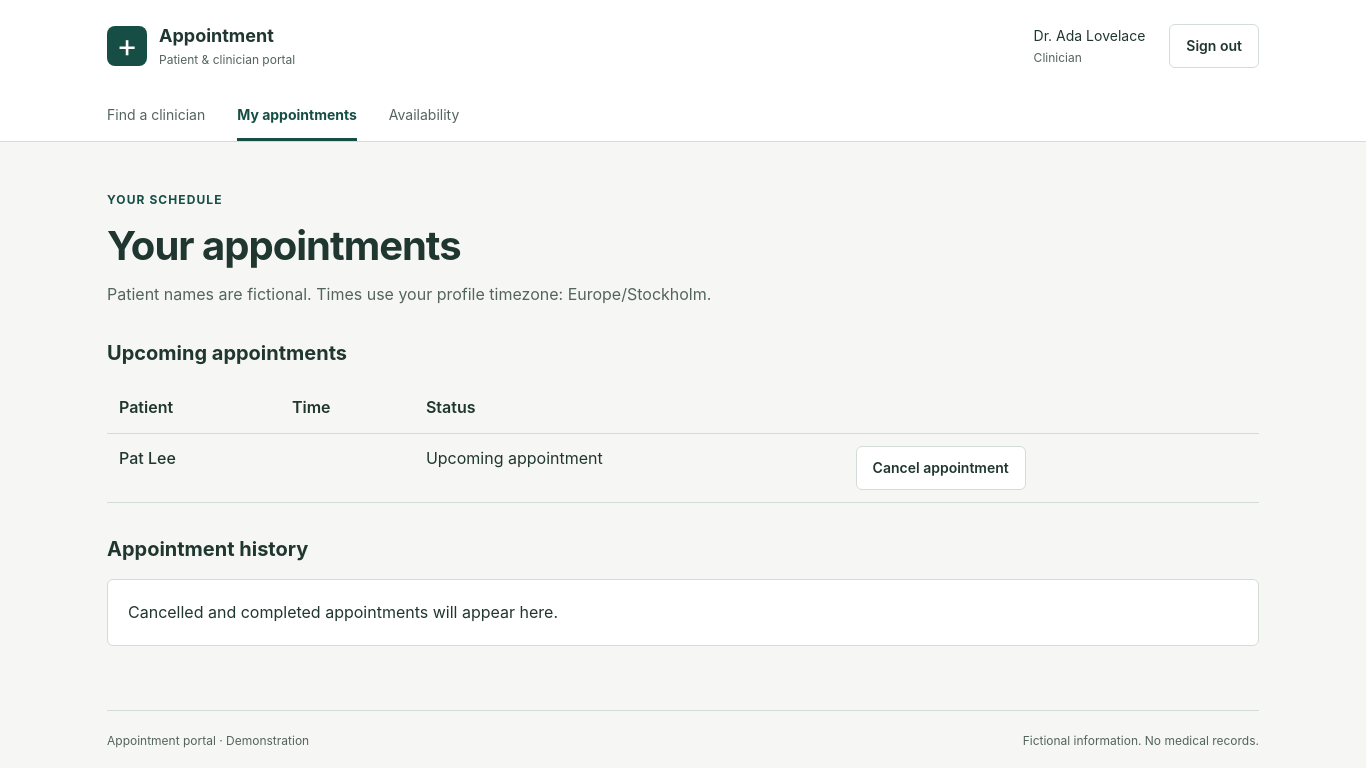
Test: clinician scheduling journeys › shows patient names and offers clinician cancellation with an opt-in withdrawal
Expected: the text "Pat Lee" is shown, [107,433,280,502]
Click the button with aria-label "Cancel appointment with Pat Lee".
click(941, 468)  # box [856,446,1026,490]
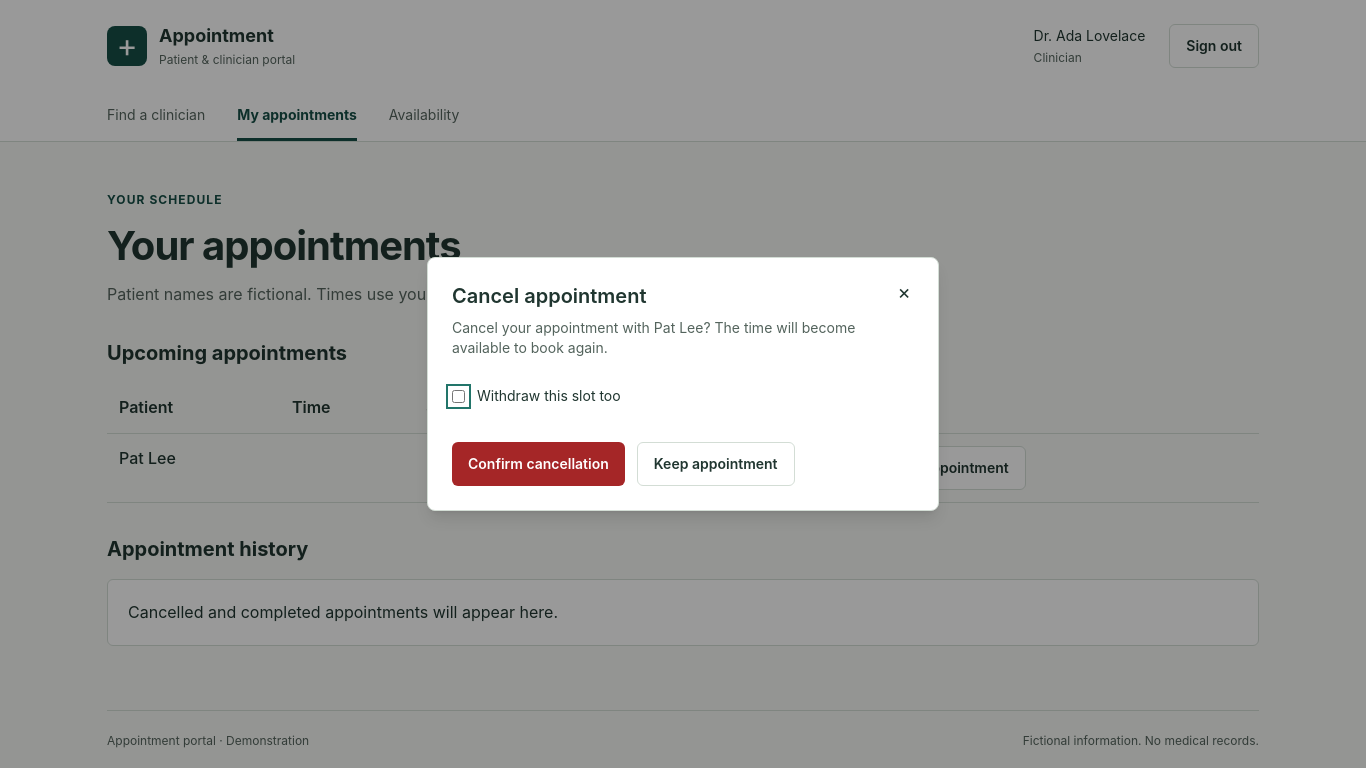
Now the checkbox labelled "Withdraw this slot too" is not checked
Click the checkbox labelled "Withdraw this slot too".
click(458, 396)  # box [452,390,465,402]
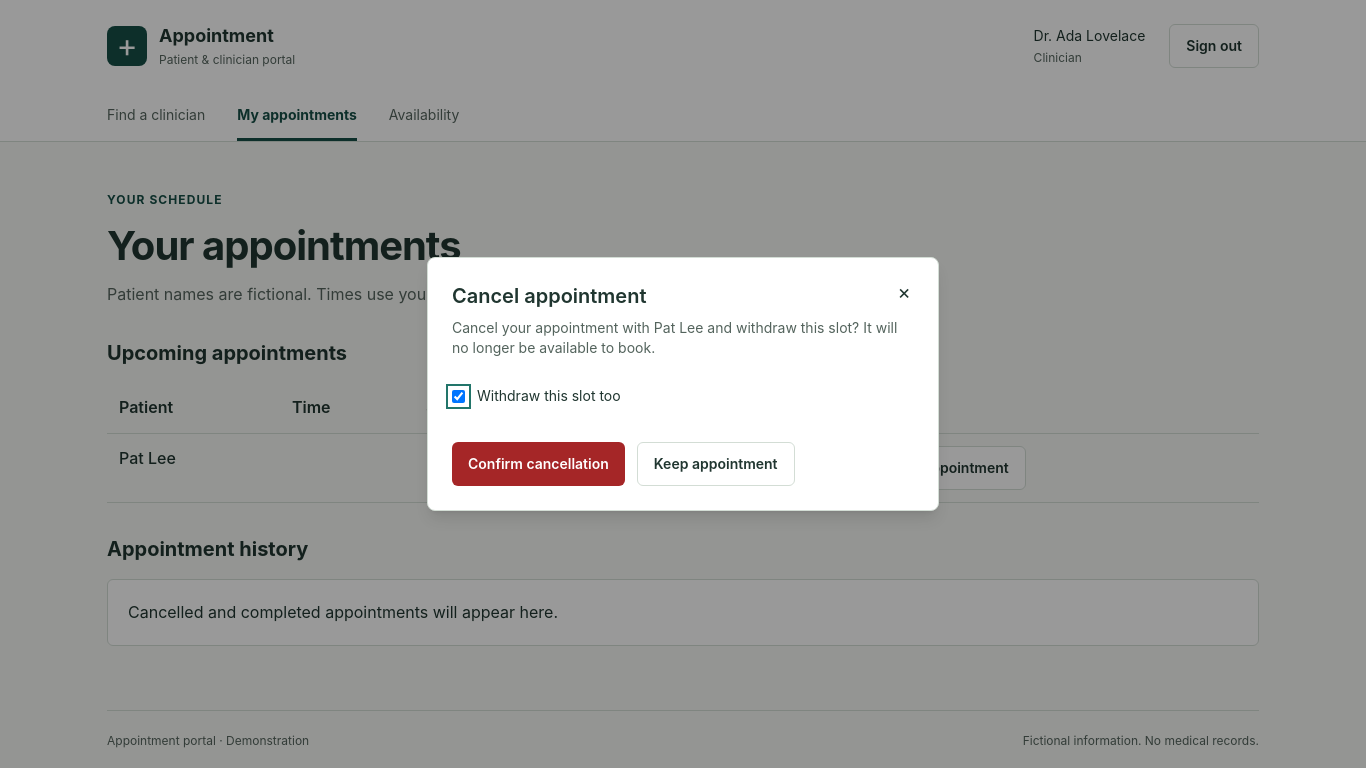
Now the text "it will no longer be available to book" is shown, box [452,319,897,356]
Now the text "become available to book again" is gone
Click the button "Confirm cancellation".
click(538, 464)  # box [452,442,625,486]
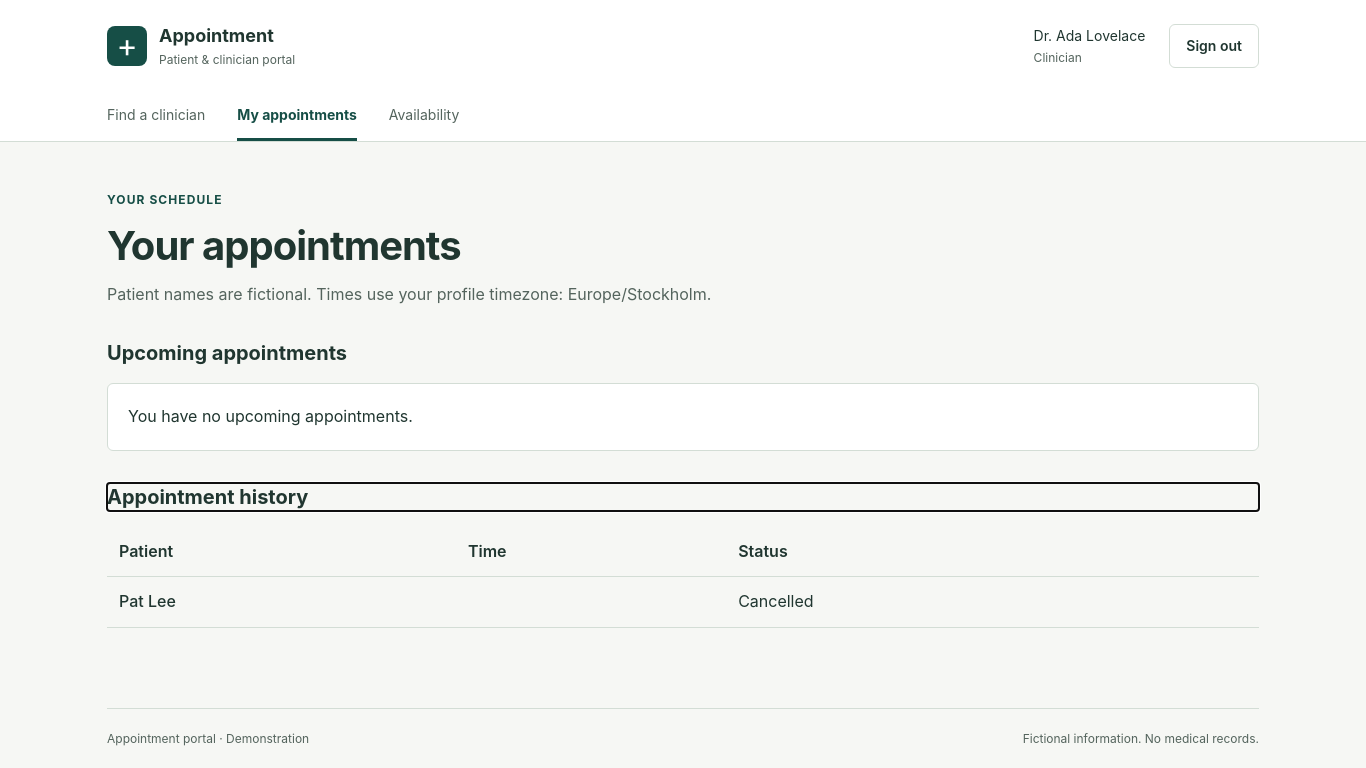
Now the text "Cancelled" is shown, box [726,577,1155,628]
